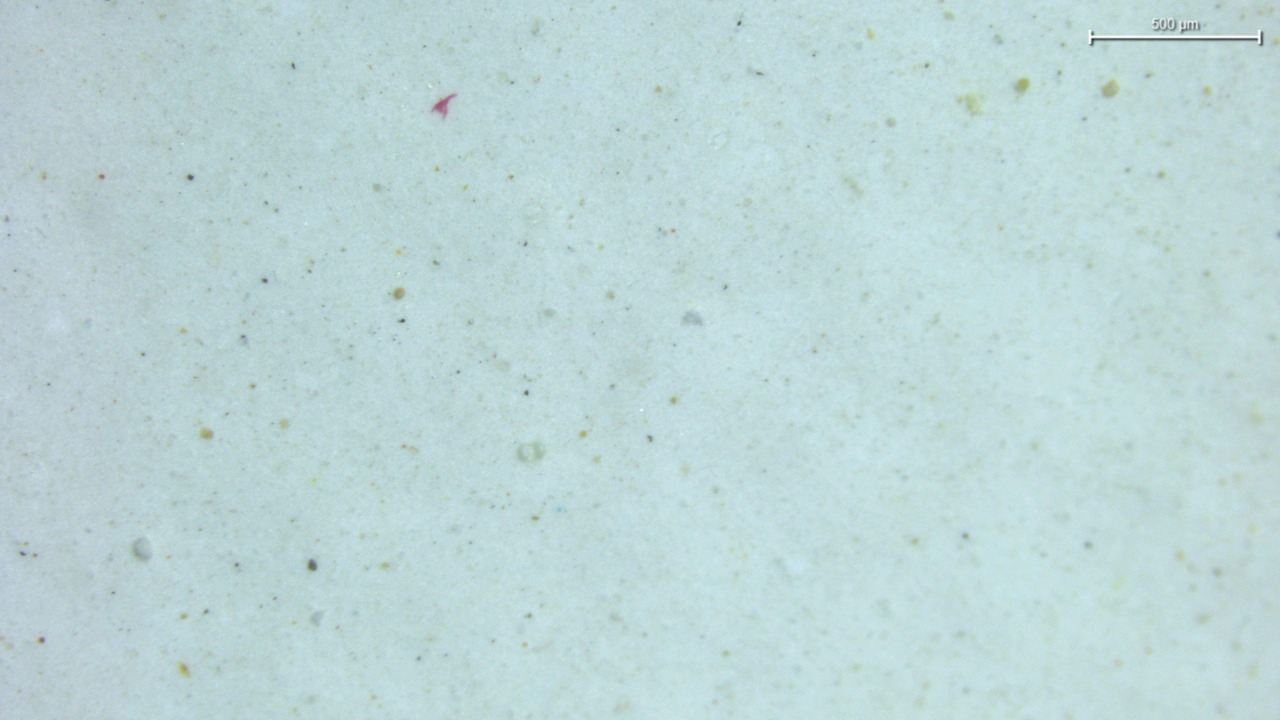microplastic_fragment: (431, 93, 458, 120)
